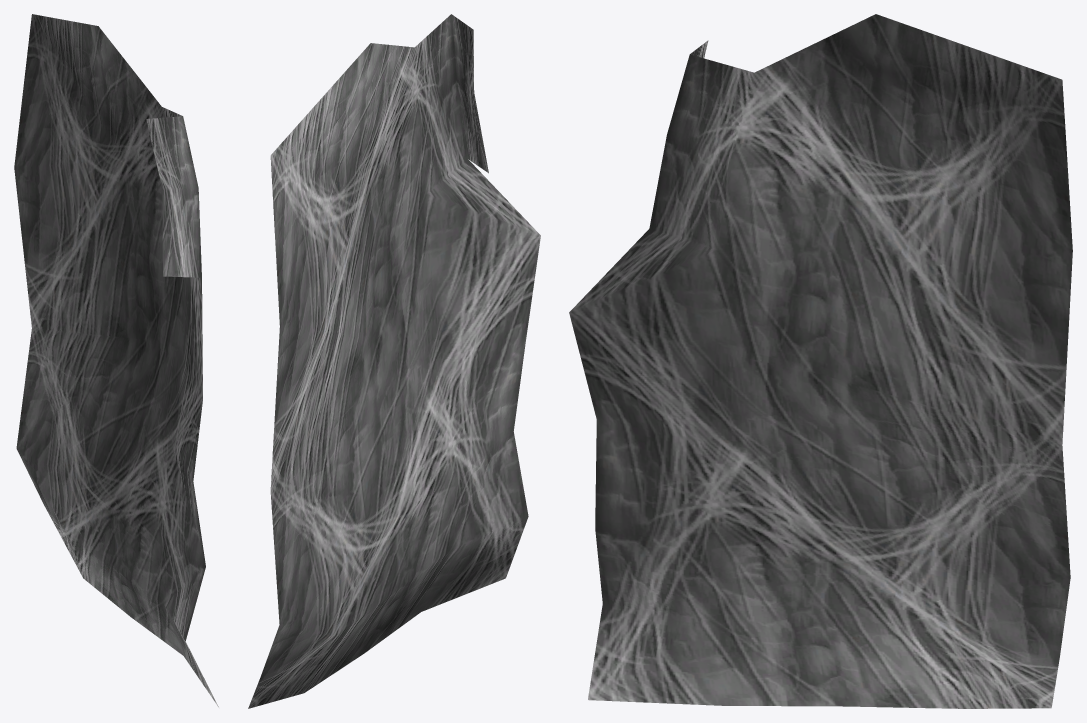
File: SWORDLIGHT20_PS-AREA01_35.fbx
3 renders of one model, left to right at view 1: azimuth 30°, elevation 25°; view 2: azimuth 150°, elevation 25°; view 3: azimuth 270°, elevation 25°, orthographic. The views are drawn at different scales.
Parts seen in each view (by area): view 1: SWORDLIGHT20_PS-AREA01_35; view 2: SWORDLIGHT20_PS-AREA01_35; view 3: SWORDLIGHT20_PS-AREA01_35.
Part boxes in pixels (x1=…): SWORDLIGHT20_PS-AREA01_35: x1=14, y1=14, x2=218, y2=707; SWORDLIGHT20_PS-AREA01_35: x1=248, y1=14, x2=540, y2=708; SWORDLIGHT20_PS-AREA01_35: x1=569, y1=14, x2=1072, y2=708.
Size of the model in its own units: 11427 by 92639 by 61510.
1 material, 1 textured.
